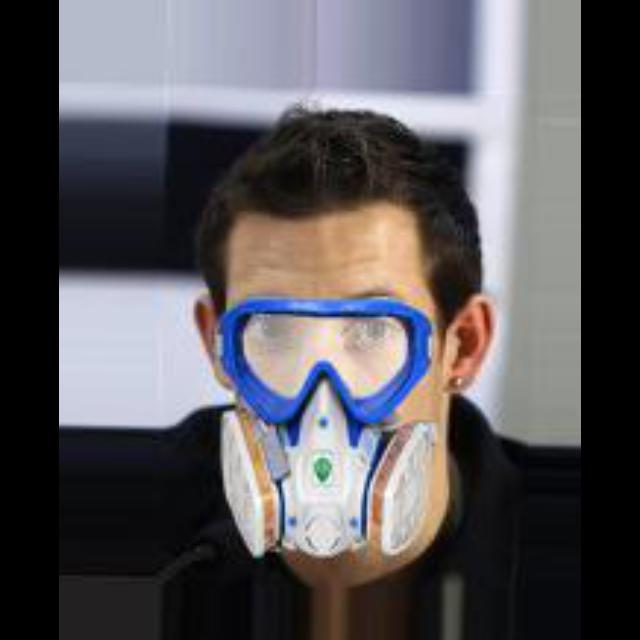suspicion: (146, 138, 576, 550)
